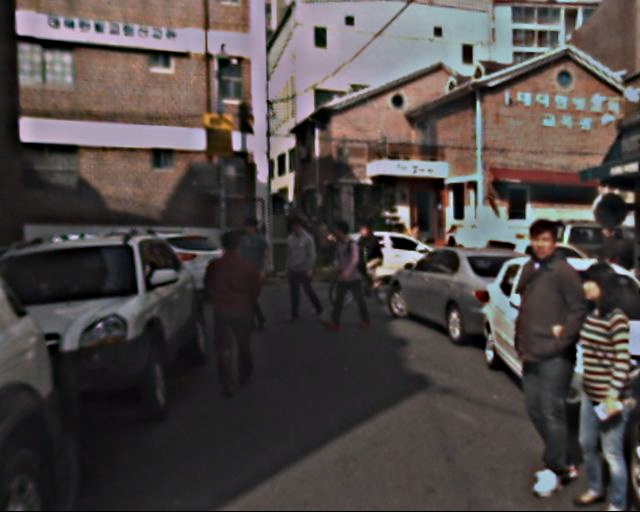person: (490, 222, 602, 495), (551, 265, 640, 508), (199, 232, 267, 398), (227, 218, 275, 334), (322, 219, 368, 330), (277, 220, 318, 321), (351, 220, 381, 294), (595, 223, 622, 289), (405, 223, 426, 275), (443, 223, 463, 272)
